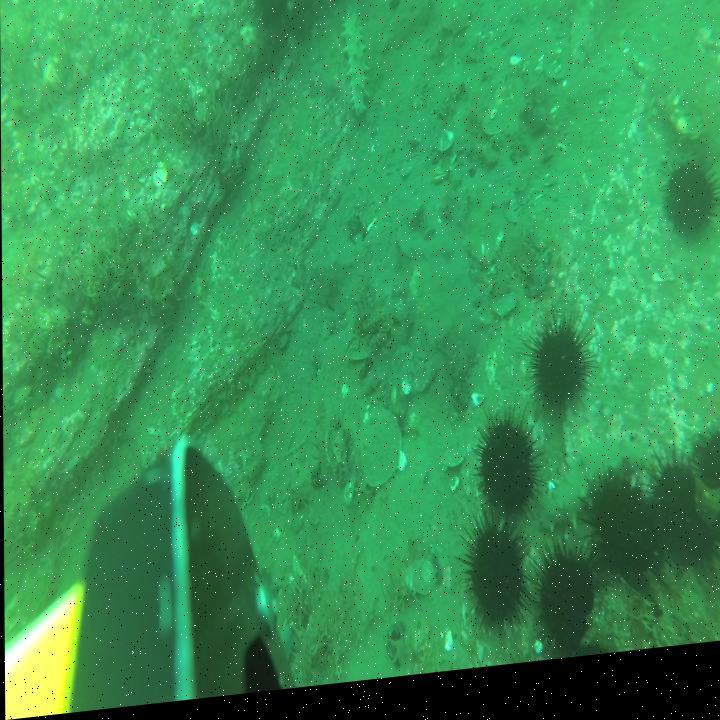echinus: (455, 509, 534, 660), (581, 473, 658, 606), (473, 408, 545, 541), (522, 309, 595, 439), (530, 540, 597, 674), (644, 465, 709, 592), (657, 168, 720, 266), (690, 436, 720, 572), (250, 0, 291, 46)
holothurian: (540, 448, 657, 545), (338, 12, 369, 128)
scallop: (358, 415, 402, 498), (404, 565, 437, 609), (441, 9, 470, 46), (438, 447, 467, 481)
